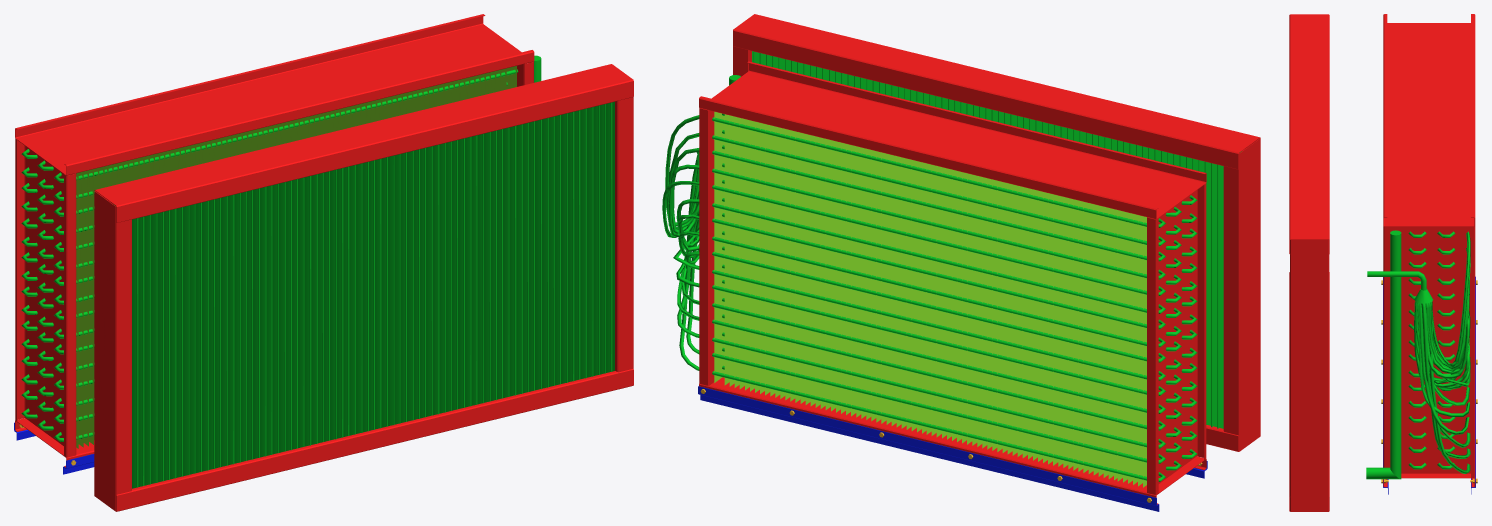
The model's file is paukLow1.FBX.
The picture shows the model from 3 angles, left to right: view 1: azimuth 30°, elevation 25°; view 2: azimuth 150°, elevation 25°; view 3: azimuth 270°, elevation 25°; orthographic projection. The views are drawn at different scales.
Parts seen in each view (by area): view 1: paukLow1; view 2: paukLow1; view 3: paukLow1.
Part boxes in pixels (x1=…): paukLow1: x1=14, y1=14, x2=633, y2=511; paukLow1: x1=662, y1=14, x2=1260, y2=511; paukLow1: x1=1289, y1=14, x2=1477, y2=511.
Size of the model in its own units: 890 by 510 by 314.
